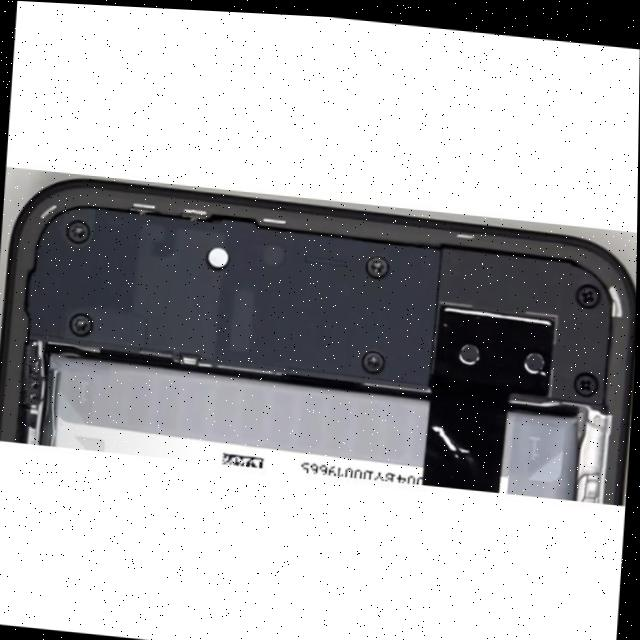Torx: (65, 219, 91, 245), (69, 313, 93, 338), (361, 351, 386, 375), (366, 255, 389, 279)
